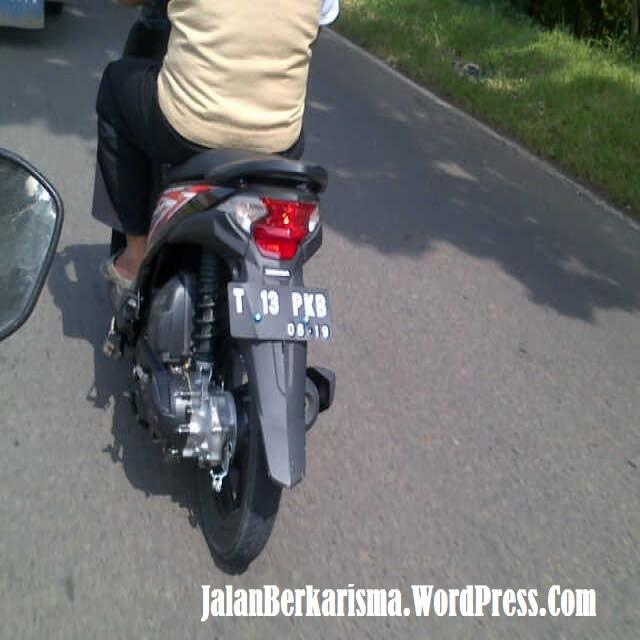plate: (229, 284, 333, 341)
